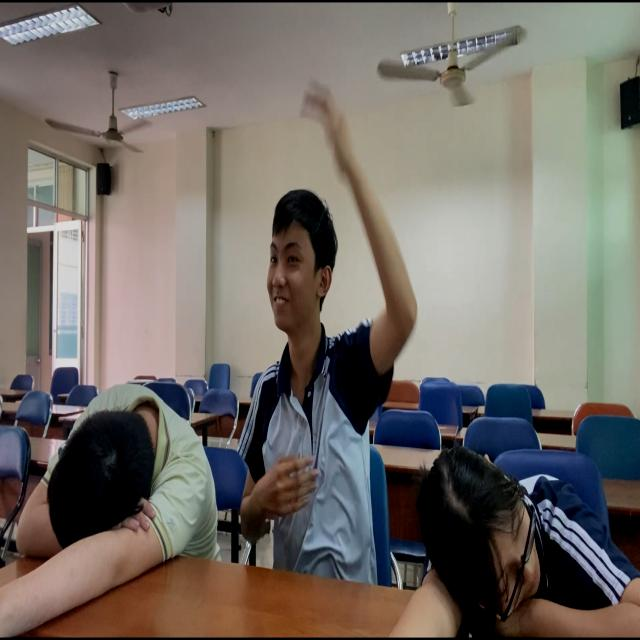sleep: (1, 306, 222, 640), (427, 339, 640, 640)
